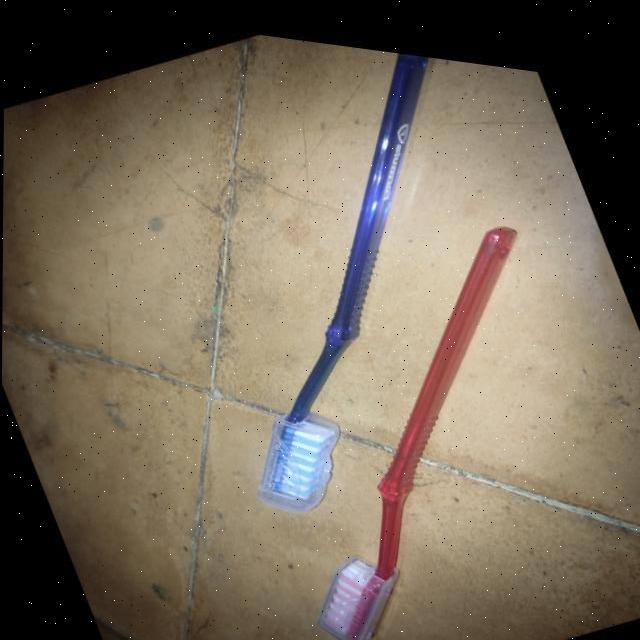toothbrush: (312, 194, 531, 640), (245, 39, 441, 514)
